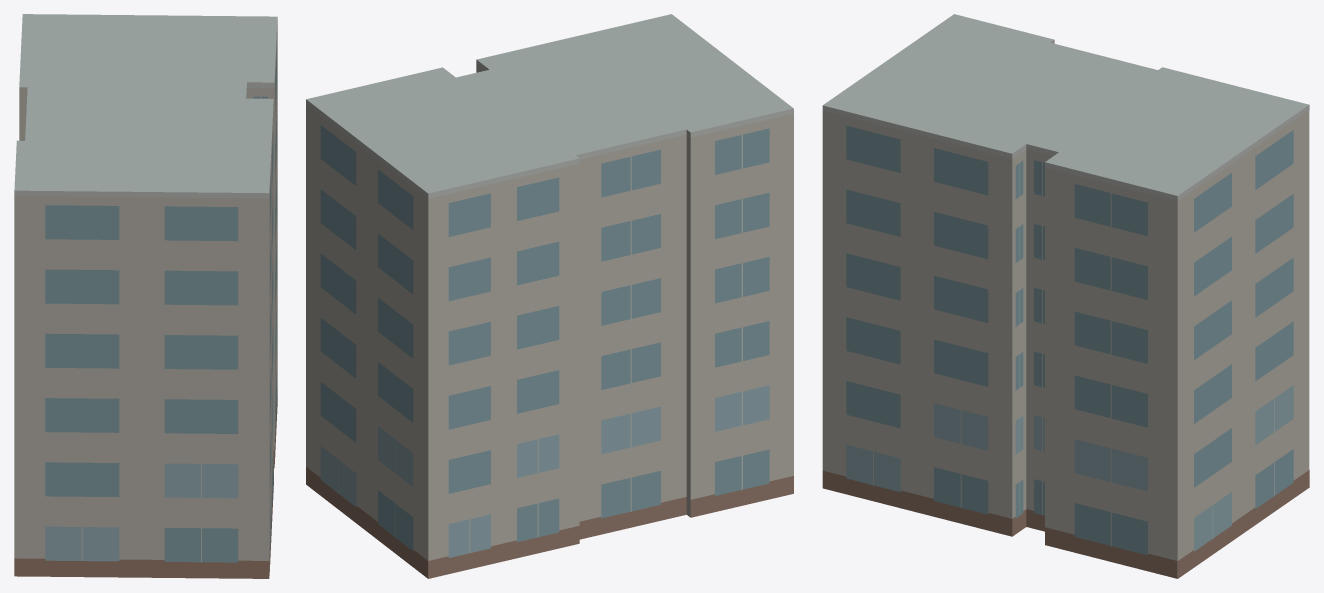
Rendered from survey-upis-32654299.glb.
3 views of the same model, side by side, from view 1: azimuth 30°, elevation 25°; view 2: azimuth 150°, elevation 25°; view 3: azimuth 270°, elevation 25° (orthographic).
Parts seen in each view (by area): view 1: survey-upis-32654299.tmp; view 2: survey-upis-32654299.tmp; view 3: survey-upis-32654299.tmp.
Part boxes in pixels (bbox=[...]): survey-upis-32654299.tmp: bbox=[14, 14, 277, 578]; survey-upis-32654299.tmp: bbox=[306, 14, 793, 578]; survey-upis-32654299.tmp: bbox=[822, 14, 1309, 578].
Size of the model in its own units: 18.16 by 17.8 by 20.52.
